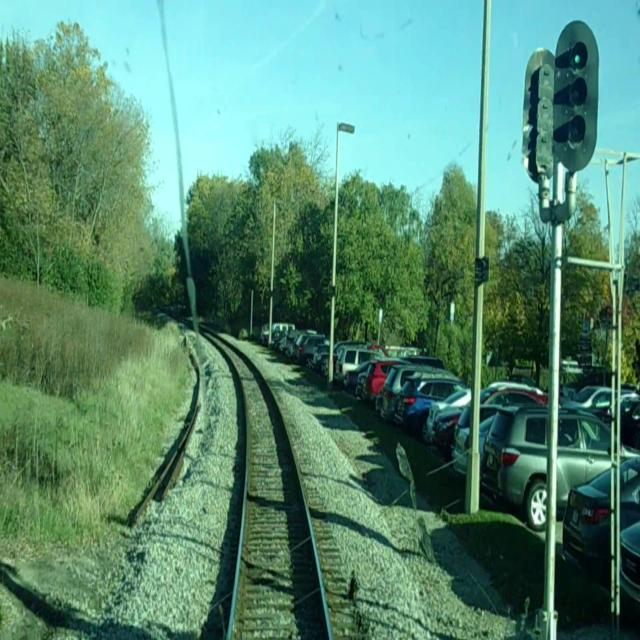rail-track: (211, 334, 328, 639)
